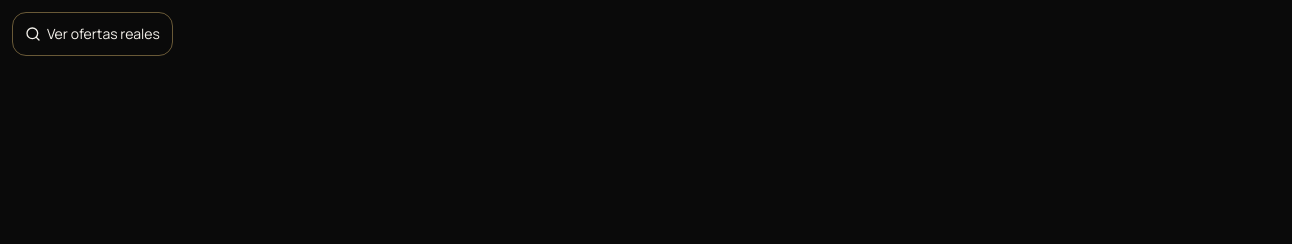
Test: ofertas de hotel en MXN › con el tipo de cambio de la cotización: $19,189 MXN y abajo $1,030 USD, con la fuente
The width and height of the screenshot is (1292, 244).
Click the button with test id "hotel-ofertas-ver".
click(92, 34)  # box [12,12,173,56]
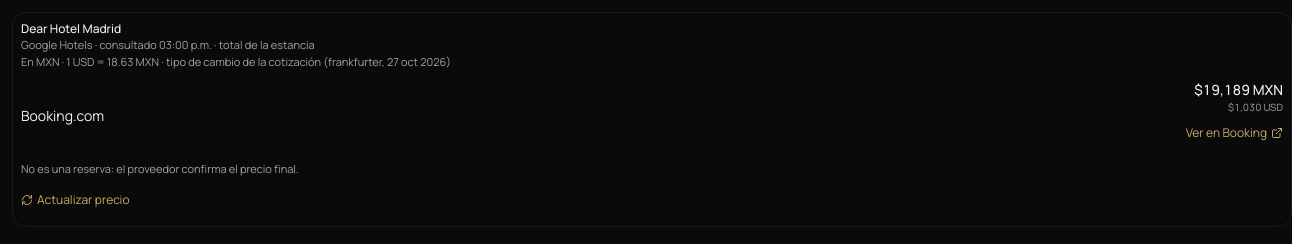
Check: the text with test id "hotel-oferta-precio" reads "$19,189 MXN", box [1194,80,1283,99]
Check: the list item with test id "hotel-oferta" shows "$1,030 USD", box [1228,100,1283,114]
Check: the text with test id "hotel-ofertas-tc" shows "En MXN · 1 USD = 18.63 MXN · tipo de cambio de la cotización (frankfurter, 27 oct 2026)", box [21,54,451,68]
